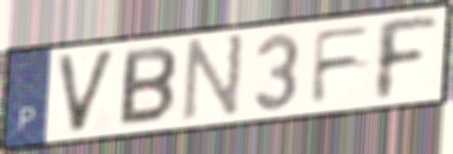3: (251, 29, 303, 115)
B: (116, 45, 180, 129)
F: (373, 14, 441, 104), (308, 22, 376, 108)
N: (178, 31, 248, 125)
V: (53, 46, 119, 137)
